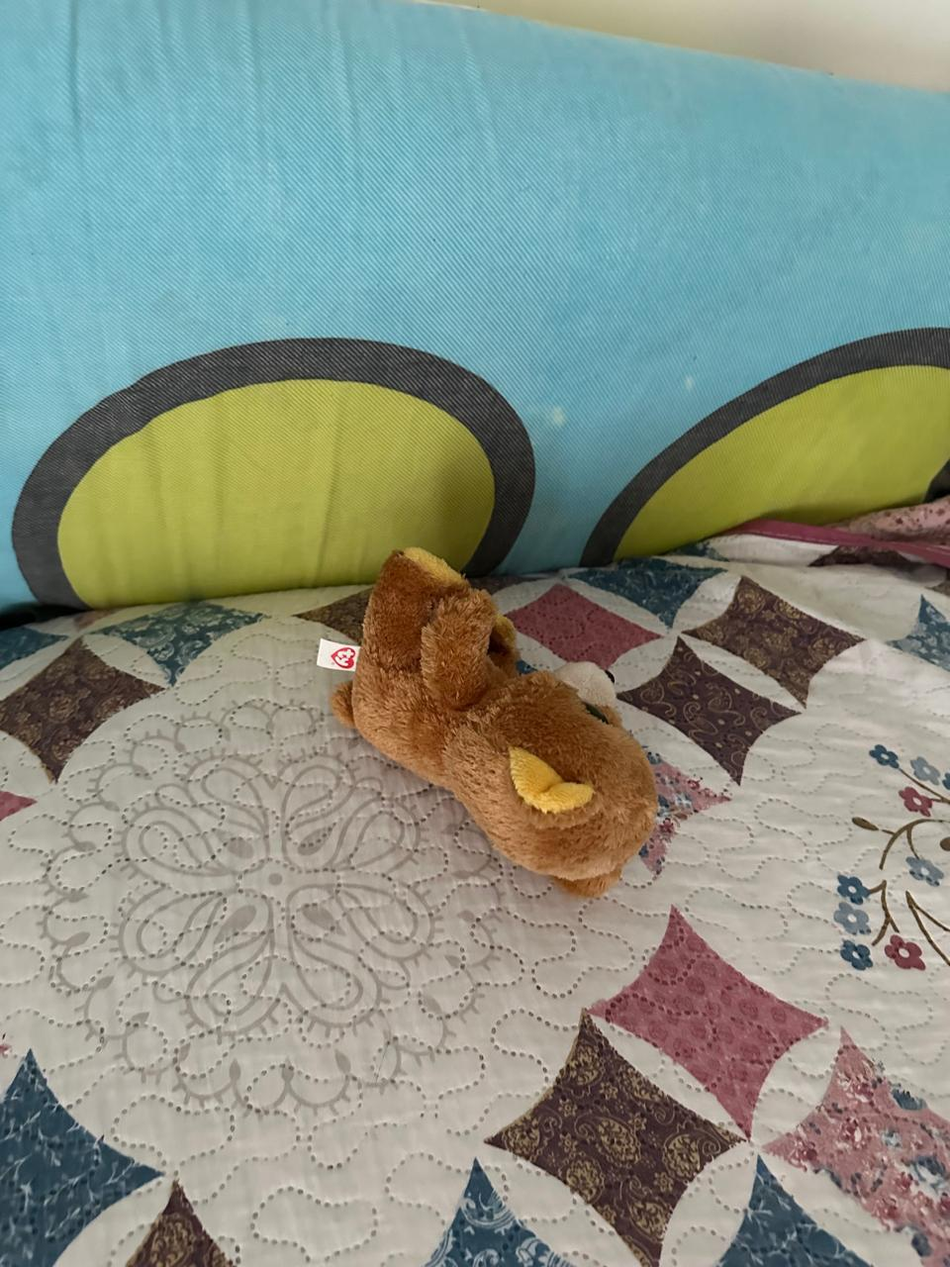peluche_sebastian: (329, 552, 678, 888)
